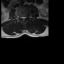CCS_normal: (22, 15, 24, 22)
LFS_stenosis: (26, 14, 28, 19)
LLS_stenosis: (24, 15, 26, 20)
RFS_normal: (19, 14, 21, 19)
RLS_normal: (21, 15, 22, 20)
